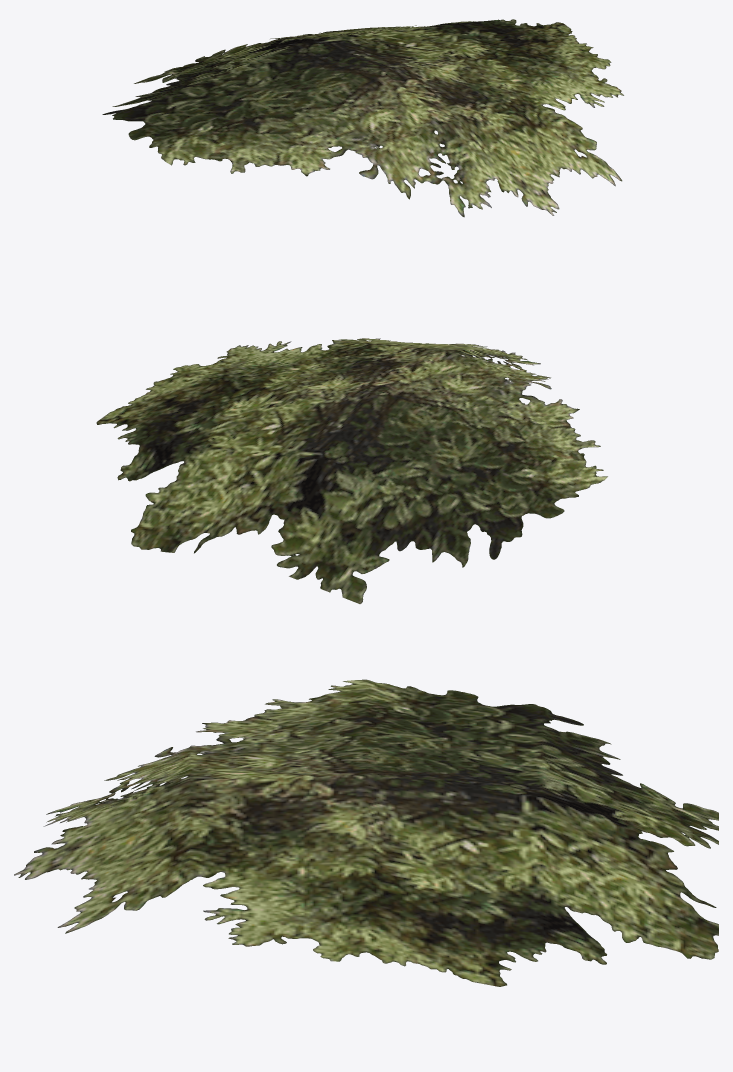
3 renders of one model, top to bottom at view 1: azimuth 30°, elevation 25°; view 2: azimuth 150°, elevation 25°; view 3: azimuth 270°, elevation 25°, orthographic. The views are drawn at different scales.
Visible parts, largest first — view 1: SMDImport; view 2: SMDImport; view 3: SMDImport.
Part boxes in pixels (bbox=[...]): SMDImport: bbox=[102, 19, 623, 217]; SMDImport: bbox=[96, 338, 607, 603]; SMDImport: bbox=[14, 679, 718, 986].
Bounding box in the file's own units: 262 × 52.89 × 256.
